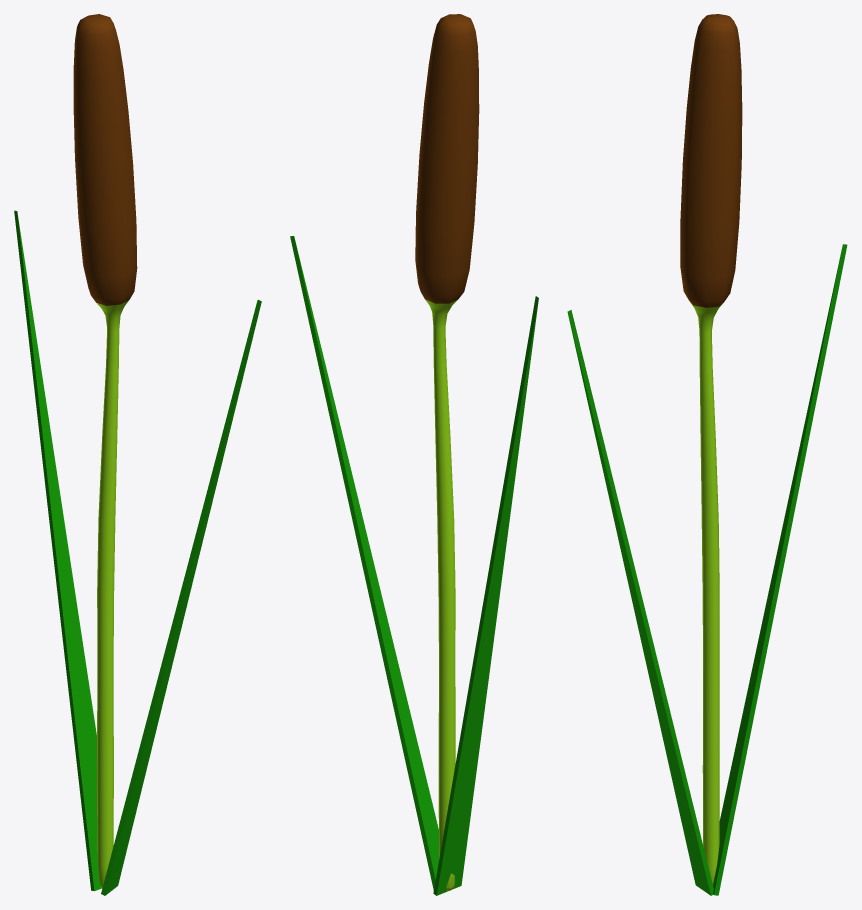
File: Reed.fbx
3 views of the same model, side by side, from view 1: azimuth 30°, elevation 25°; view 2: azimuth 210°, elevation 25°; view 3: azimuth 270°, elevation 25° (orthographic).
Visible parts, largest first — view 1: Reed, Leaf2, Leaf1; view 2: Reed, Leaf2, Leaf1; view 3: Reed, Leaf1, Leaf2.
Part boxes in pixels (x1,y1,x2,y2): Reed: [73, 14, 137, 888]; Leaf2: [14, 210, 101, 891]; Leaf1: [101, 300, 261, 895]; Reed: [415, 14, 479, 890]; Leaf2: [433, 296, 538, 895]; Leaf1: [290, 236, 438, 890]; Reed: [680, 14, 742, 884]; Leaf1: [567, 310, 713, 895]; Leaf2: [713, 244, 847, 895].
Bounding box in the file's own units: 106 × 792 × 231.
